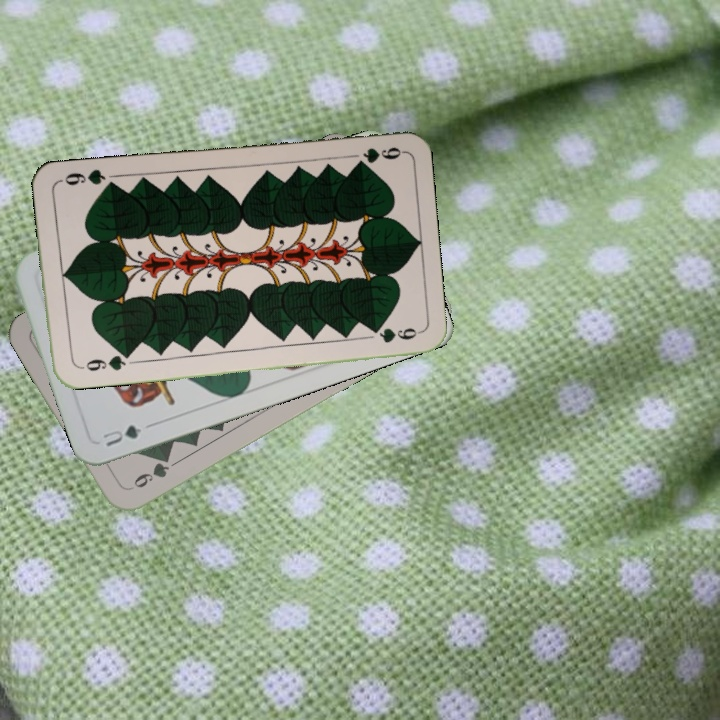G9: (124, 451, 173, 493), (73, 349, 132, 374), (351, 143, 405, 169)
GU: (98, 420, 144, 450)
